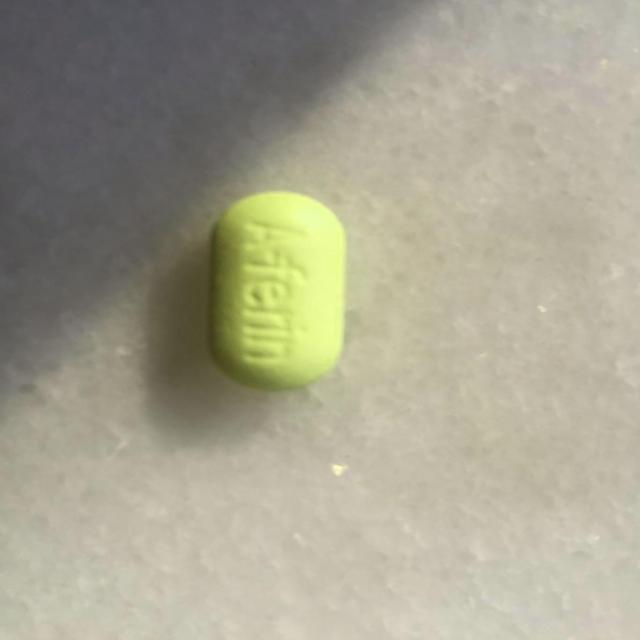pill: (206, 187, 358, 392)
